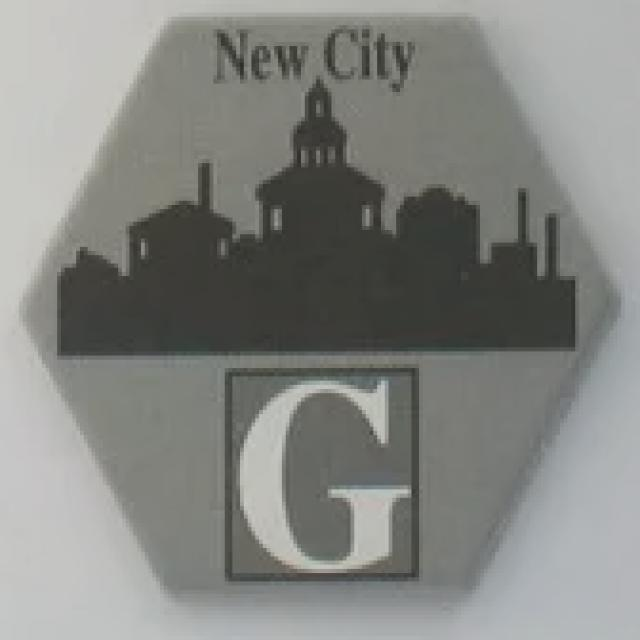22_0: (22, 14, 618, 601)
